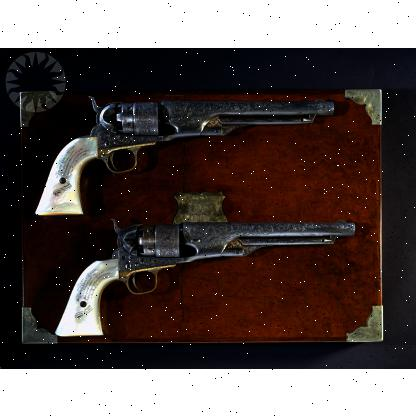gun: (20, 210, 380, 336), (55, 216, 356, 338), (32, 94, 332, 214)
